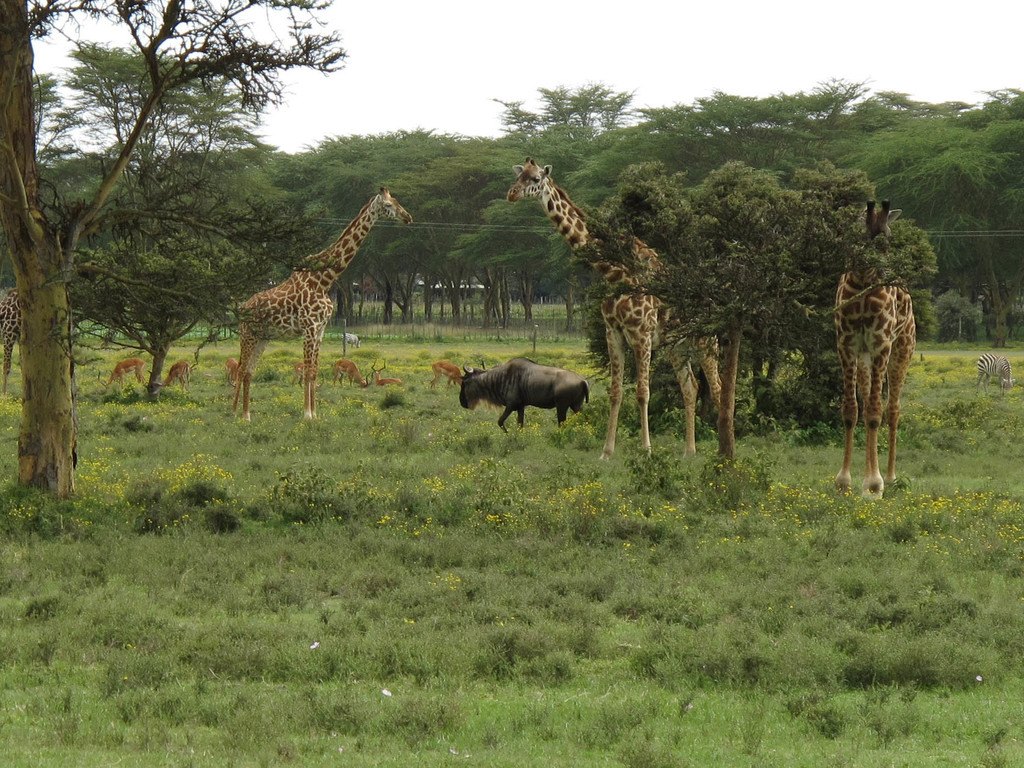Tree: (0, 79, 1024, 345), (2, 0, 349, 511)
